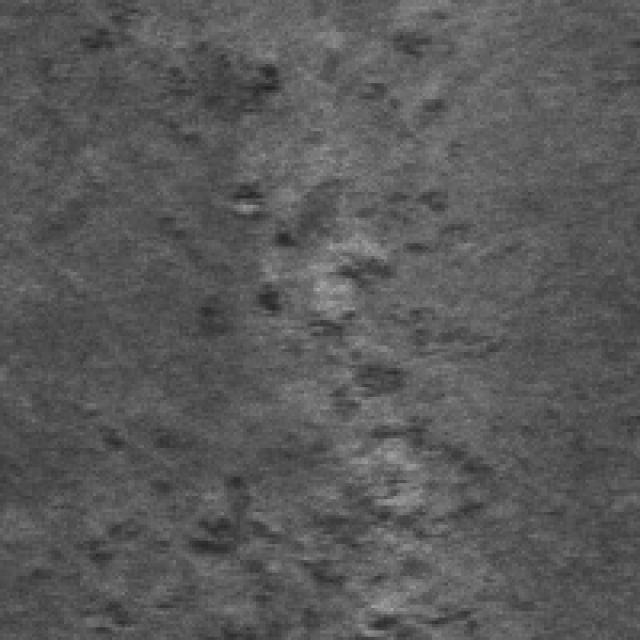rolled-in_scale: (74, 394, 515, 636), (221, 128, 454, 419), (301, 0, 464, 160), (147, 32, 285, 144)
